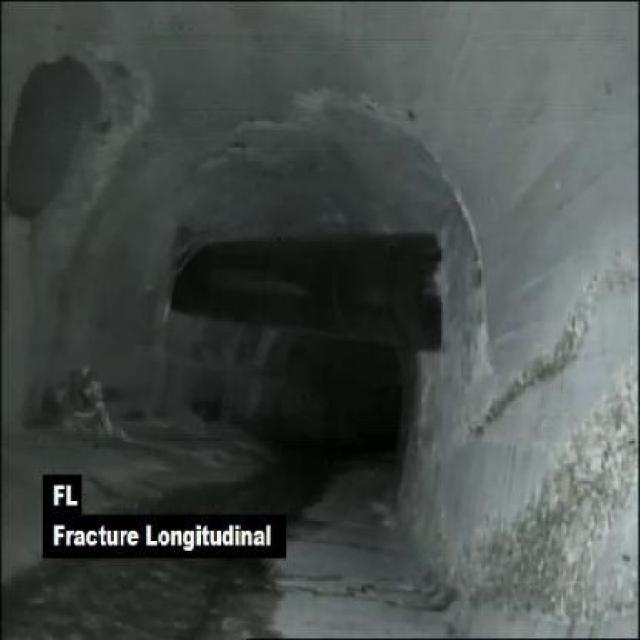Crack: (471, 274, 609, 438)
Debris: (45, 360, 123, 445)
Utility intrusion: (162, 223, 448, 360)
